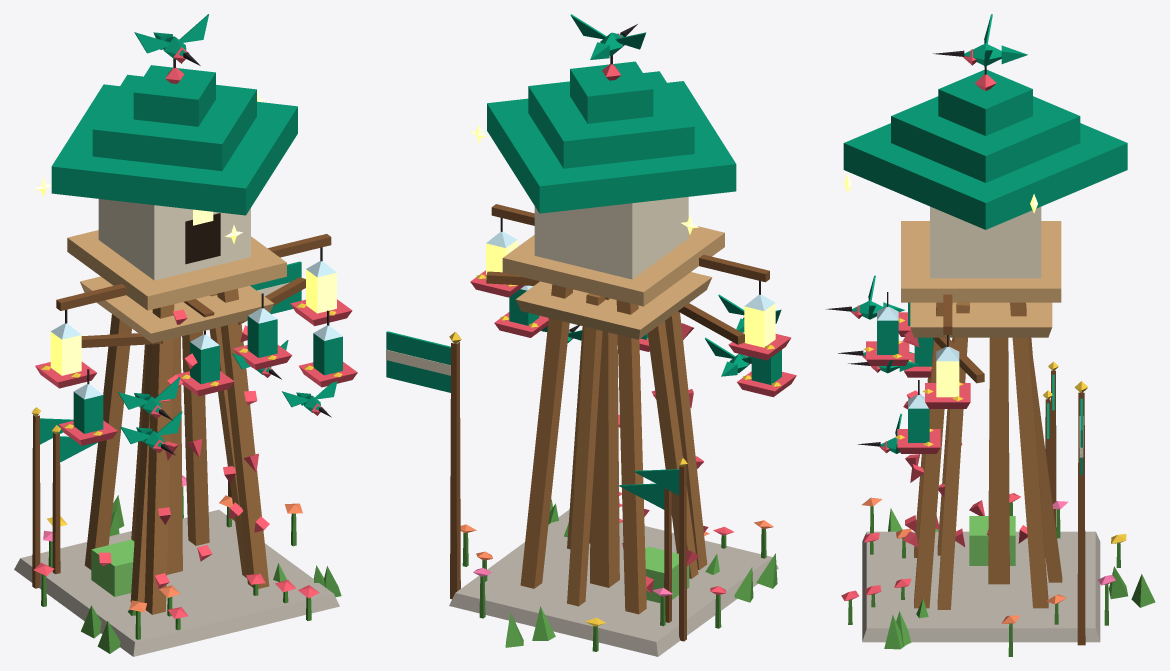
Rendered from hummingbird-feeder-tower-blocky.glb.
3 renders of one model, left to right at view 1: azimuth 30°, elevation 25°; view 2: azimuth 150°, elevation 25°; view 3: azimuth 270°, elevation 25°, orthographic.
Parts seen in each view (by area): view 1: lv3, lv2, lv1; view 2: lv3, lv2, lv1; view 3: lv3, lv2, lv1.
Part boxes in pixels (left/top/right/bottom): lv3: left=14, top=14, right=352, bottom=656; lv2: left=43, top=276, right=357, bottom=638; lv1: left=91, top=299, right=288, bottom=616; lv3: left=386, top=14, right=791, bottom=656; lv2: left=476, top=271, right=796, bottom=640; lv1: left=564, top=297, right=719, bottom=603; lv3: left=826, top=14, right=1155, bottom=656; lv2: left=838, top=302, right=1127, bottom=645; lv1: left=848, top=337, right=1027, bottom=618.
Size of the model in its own units: 1.66 by 2.79 by 1.48.
